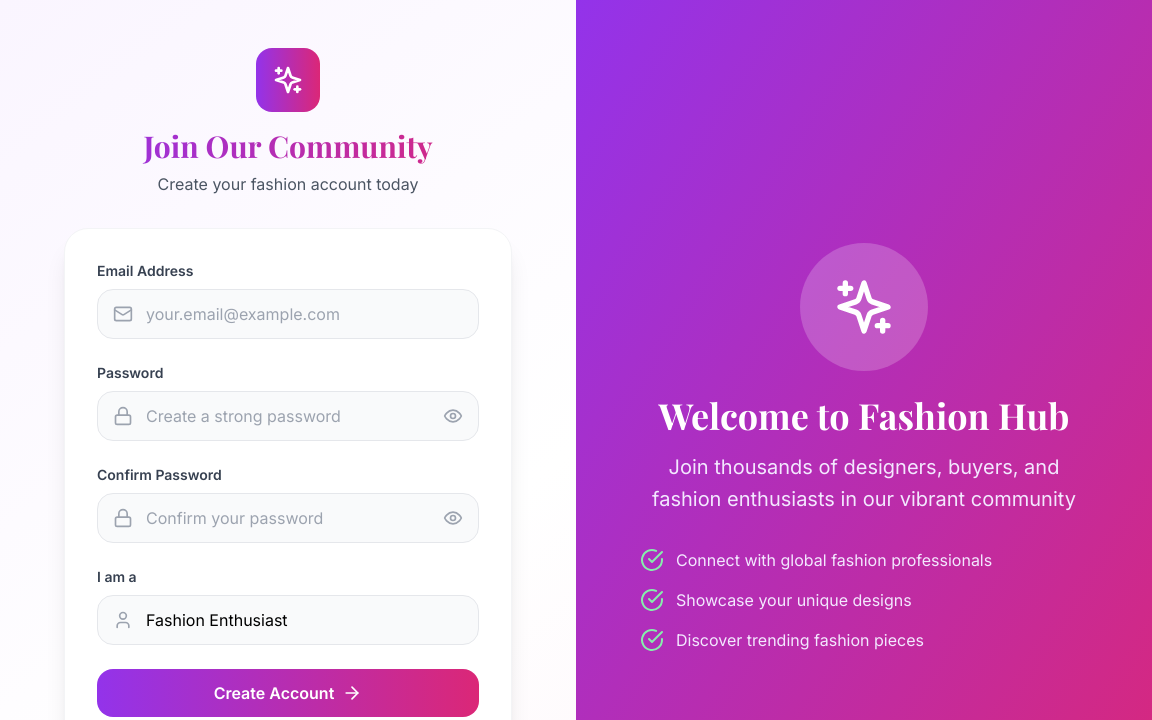
SignUpPage › validates password strength
The width and height of the screenshot is (1152, 720).
Fill email
Type "test@example.com" into the field labelled "Email Address".
click(288, 314); type("test@example.com")  # box [97, 289, 479, 339]
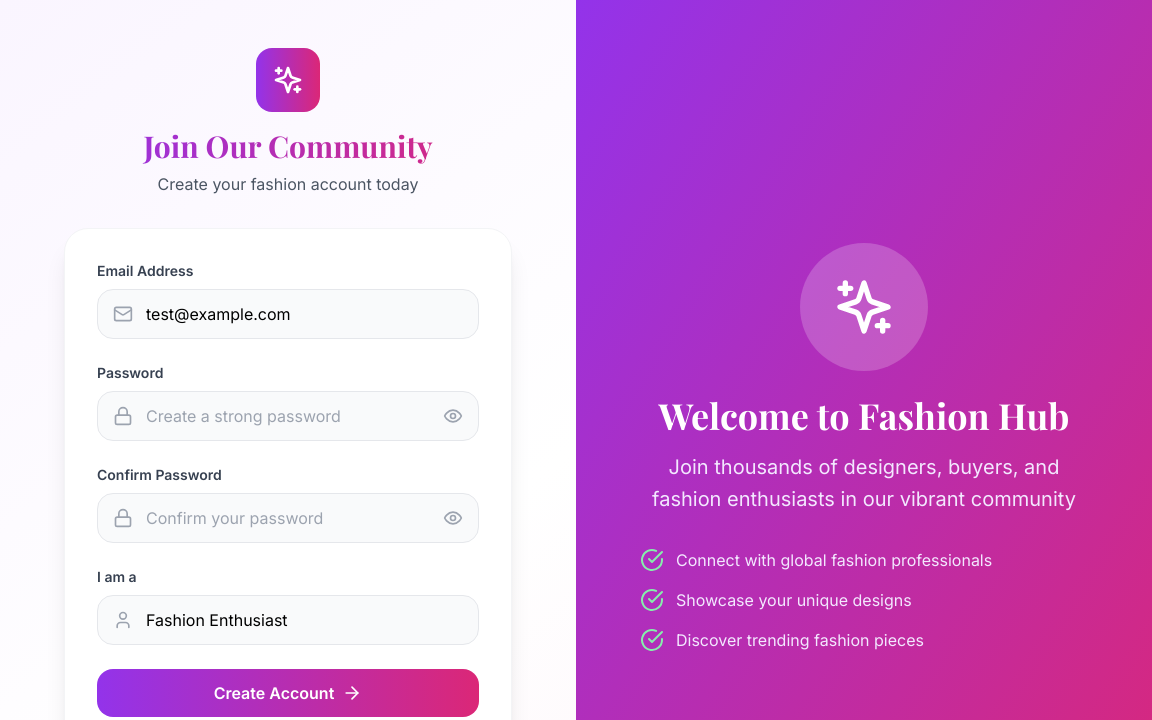
Fill weak password
Type "weak" into the password field labelled "Password".
click(288, 416); type("weak")  # box [97, 391, 479, 441]
(page scrolled)
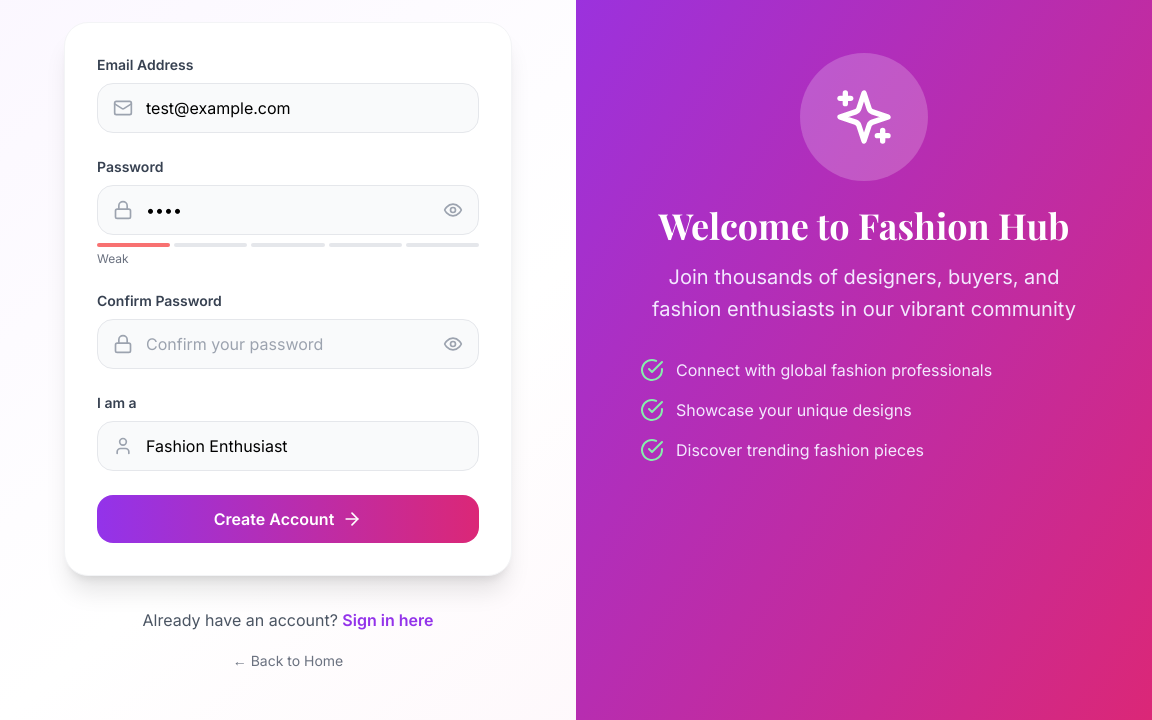
Submit form
Click the button "Create Account".
click(288, 519)  # box [97, 495, 479, 543]
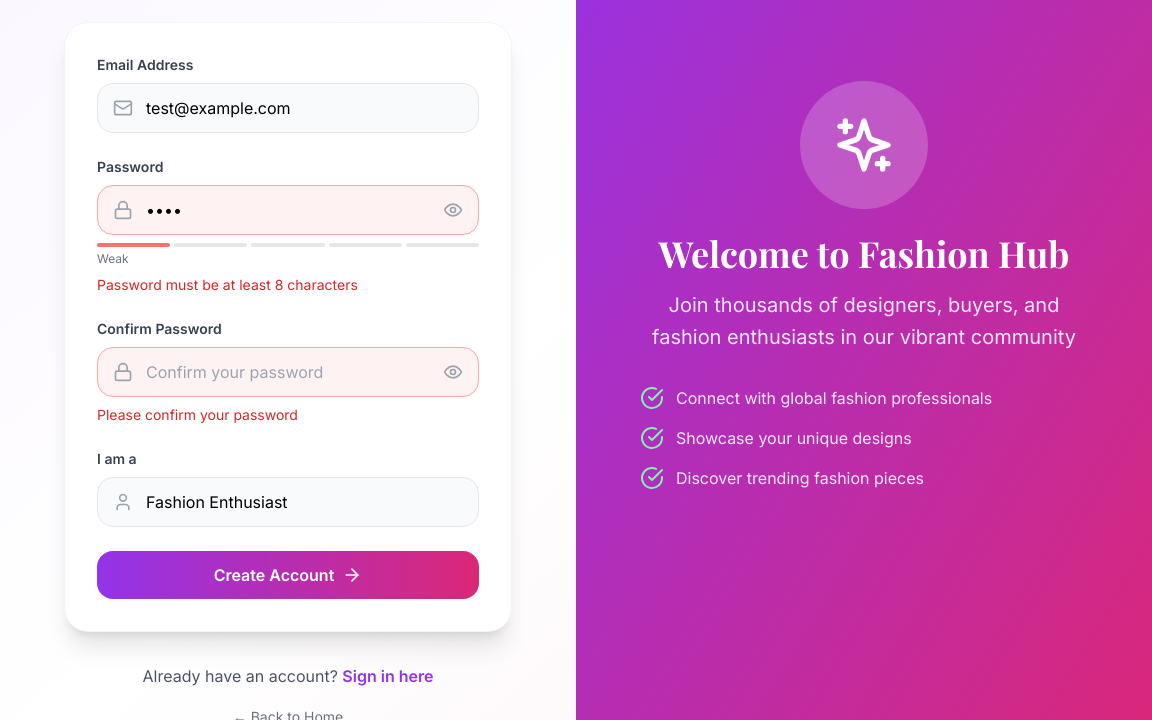
expect the text "Password must be at least 8 characters" is shown: met, box [97, 276, 358, 293]
Update with password missing uppercase
Type "weakpassword123" into the password field labelled "Password".
click(288, 210); type("weakpassword123")  # box [97, 185, 479, 235]
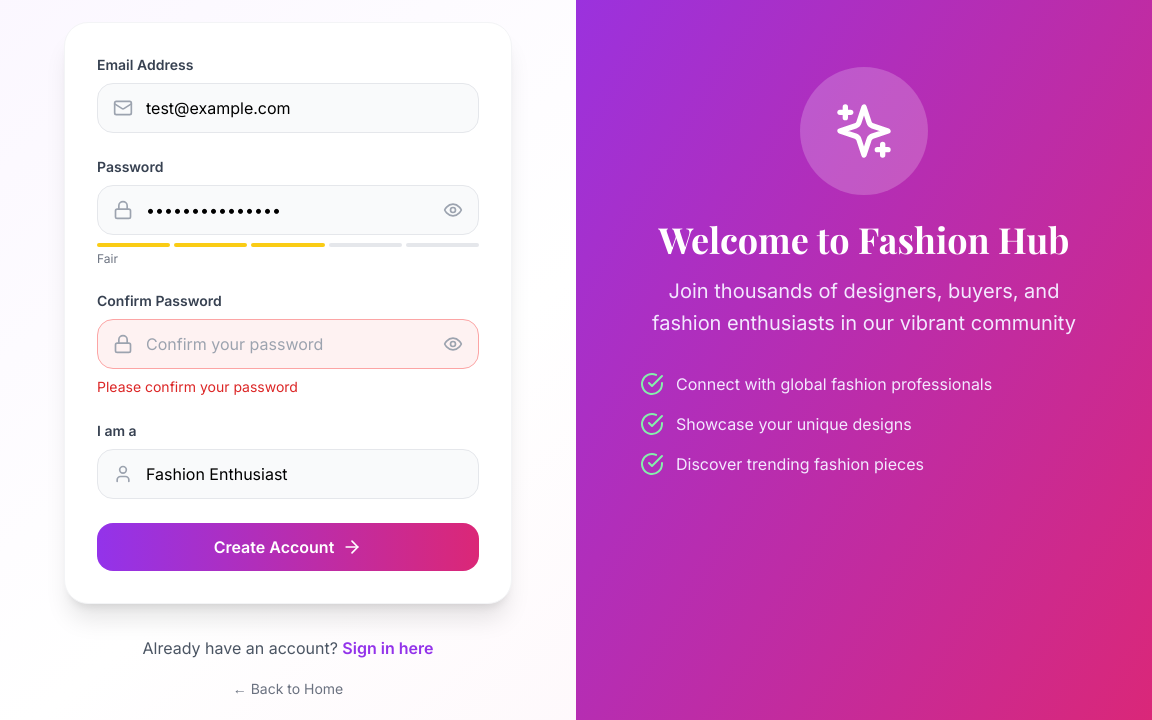
Submit form again
Click the button "Create Account".
click(288, 547)  # box [97, 523, 479, 571]
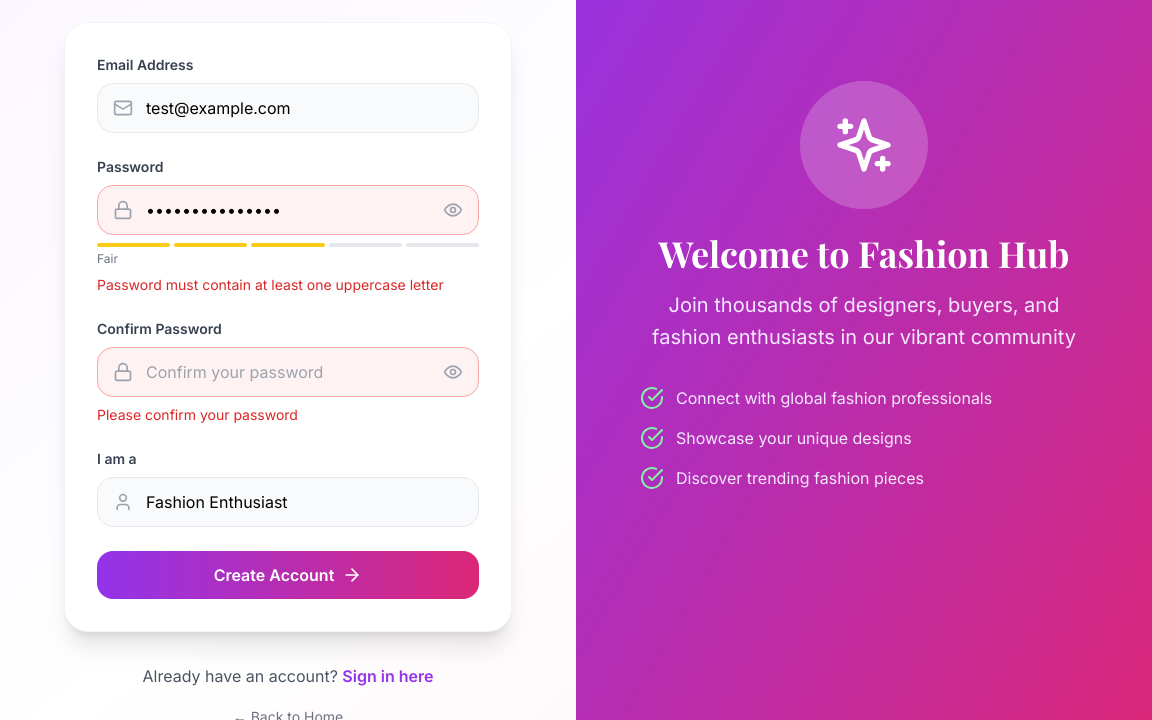
expect the text "Password must contain at least one uppercase letter" is shown: met, box [97, 275, 479, 295]
